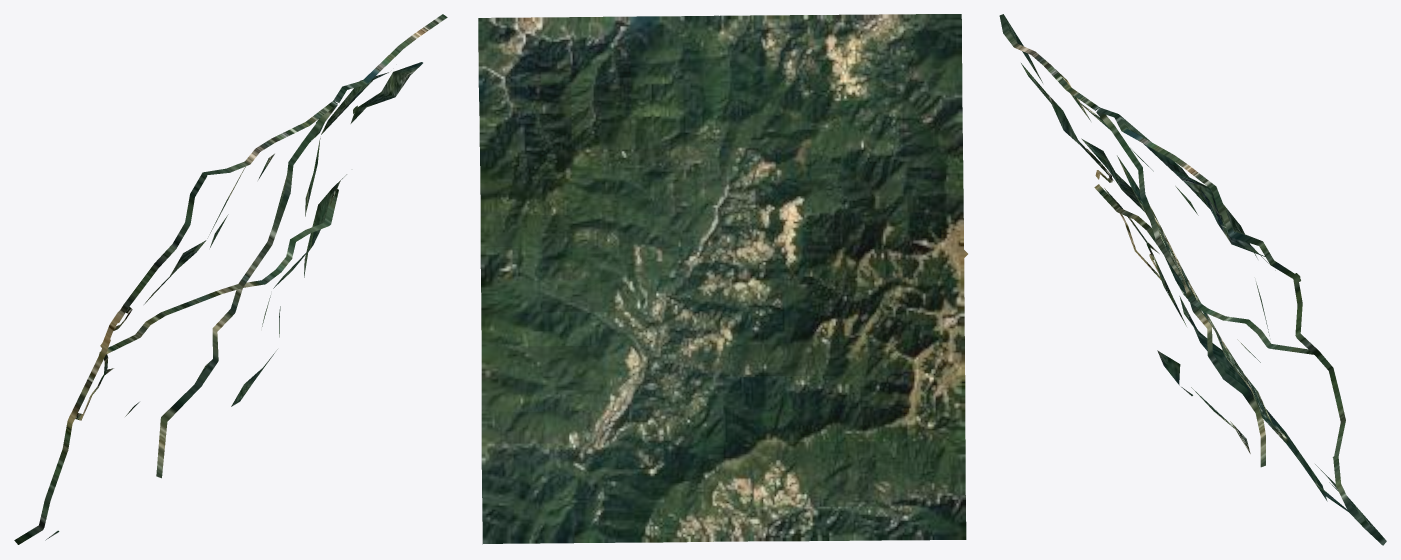
3 renders of one model, left to right at view 1: azimuth 30°, elevation 25°; view 2: azimuth 150°, elevation 25°; view 3: azimuth 270°, elevation 25°, orthographic. The views are drawn at different scales.
Size of the model in its own units: 20332 by 18437 by 15757.
1 material, 1 textured.
